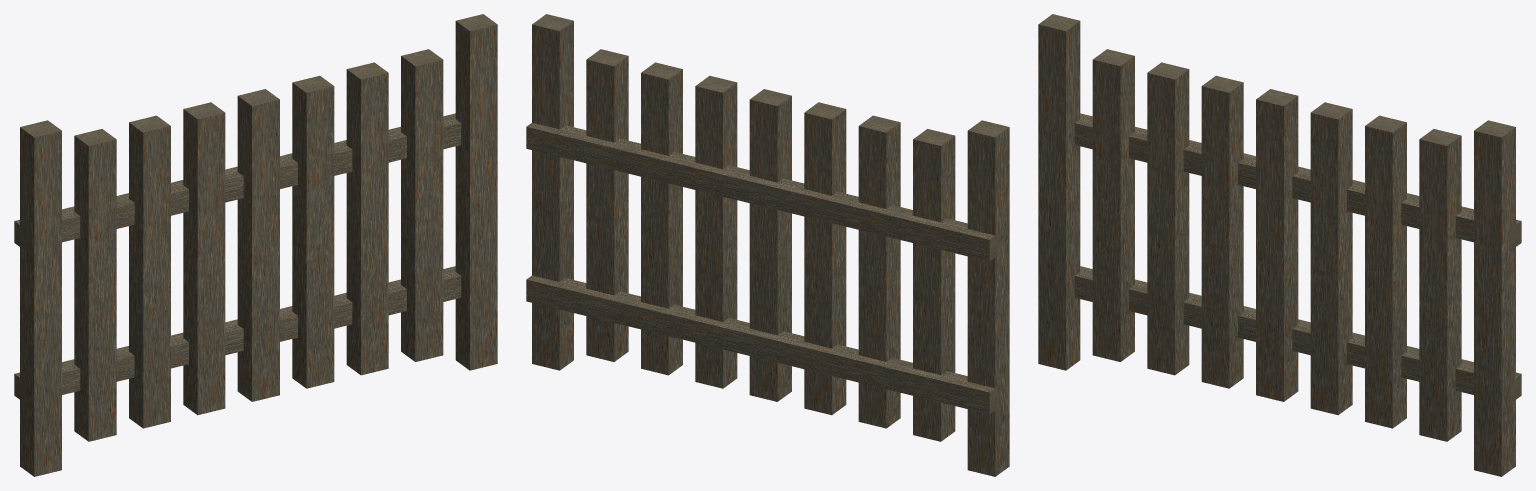
The model's file is timber_fence.glb.
3 views of the same model, side by side, from view 1: azimuth 30°, elevation 25°; view 2: azimuth 150°, elevation 25°; view 3: azimuth 330°, elevation 25° (orthographic).
Bounding box in the file's own units: 2 × 1.4 × 0.15.
Materials: 1 (1 with a texture image).
